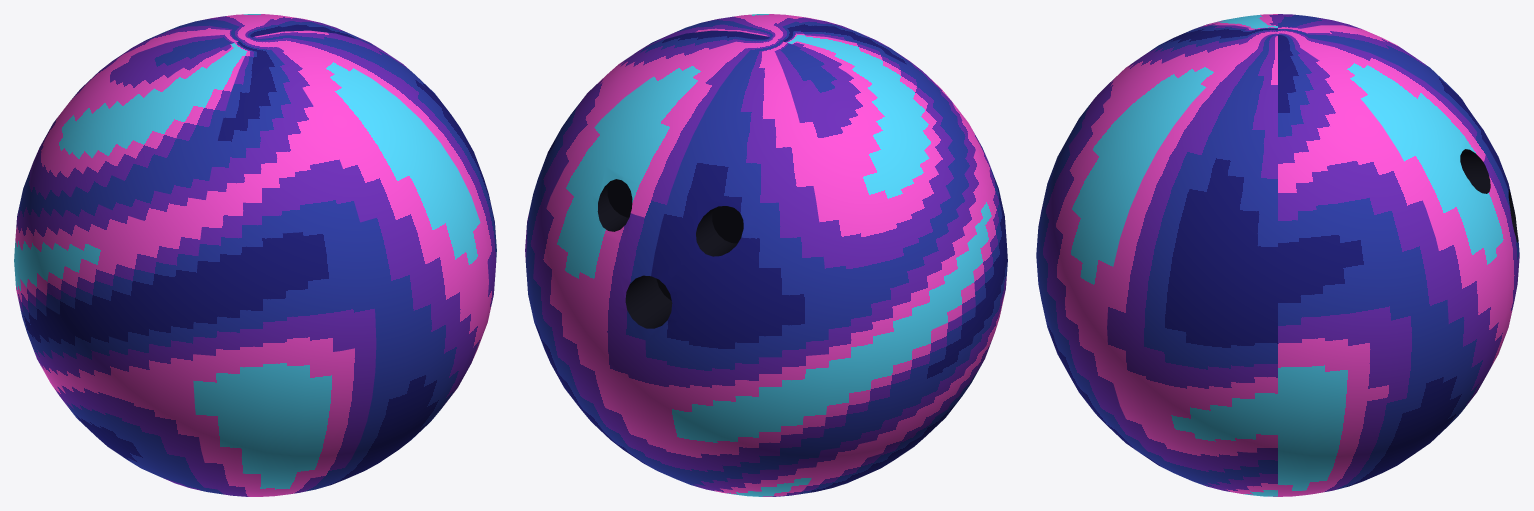
File: pj_bowling.glb
3 renders of one model, left to right at view 1: azimuth 30°, elevation 25°; view 2: azimuth 150°, elevation 25°; view 3: azimuth 270°, elevation 25°, orthographic.
Parts seen in each view (by area): view 1: pbowling_wzAB; view 2: pbowling_wzAB; view 3: pbowling_wzAB.
Boxes of the visible parts, x1,y1,x2,y2 form: pbowling_wzAB: [14, 14, 496, 496]; pbowling_wzAB: [525, 14, 1007, 496]; pbowling_wzAB: [1036, 14, 1519, 496].
Bounding box in the file's own units: 0.9 × 0.9 × 0.9.
2 materials, 1 textured.
